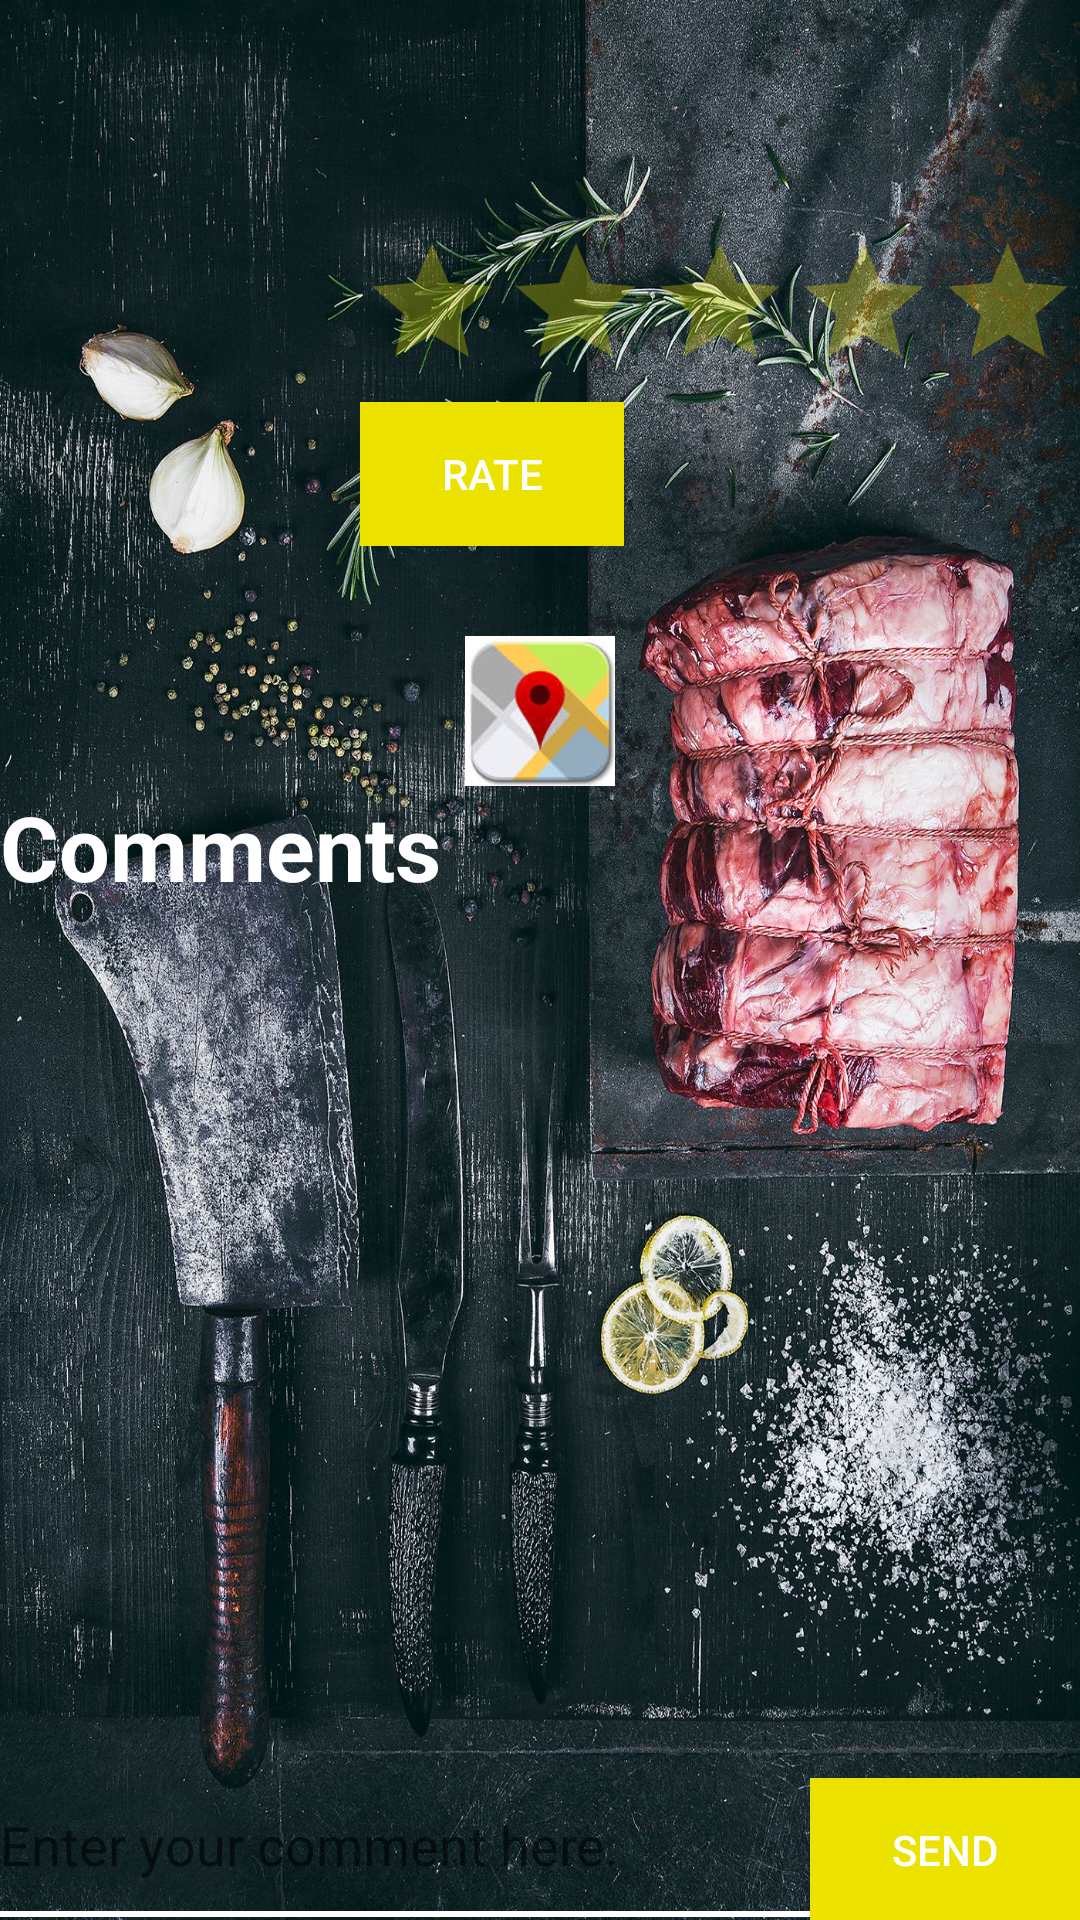

Where icons sit on this 1080x1920 app screen, as (x1, y1, x2, y2):
map: (465, 636, 615, 786)
